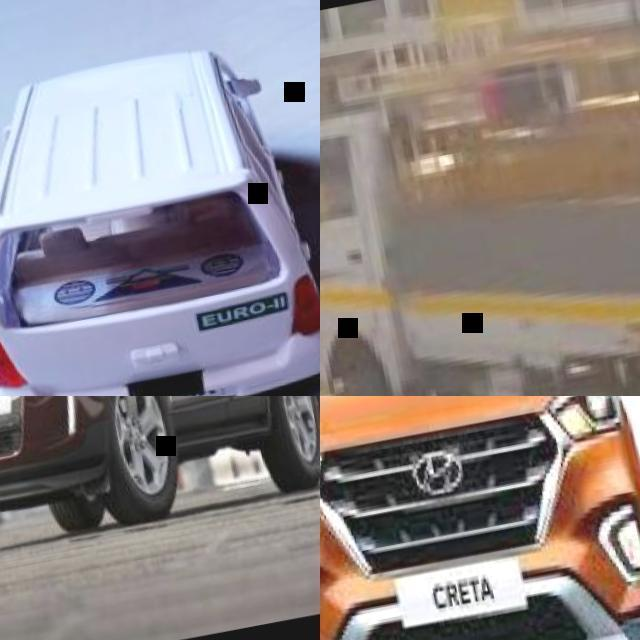car: (2, 37, 322, 552)
